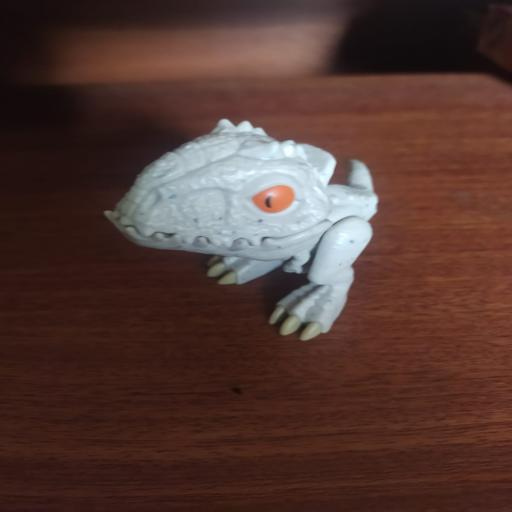Dinosaurio: (94, 114, 390, 350)
